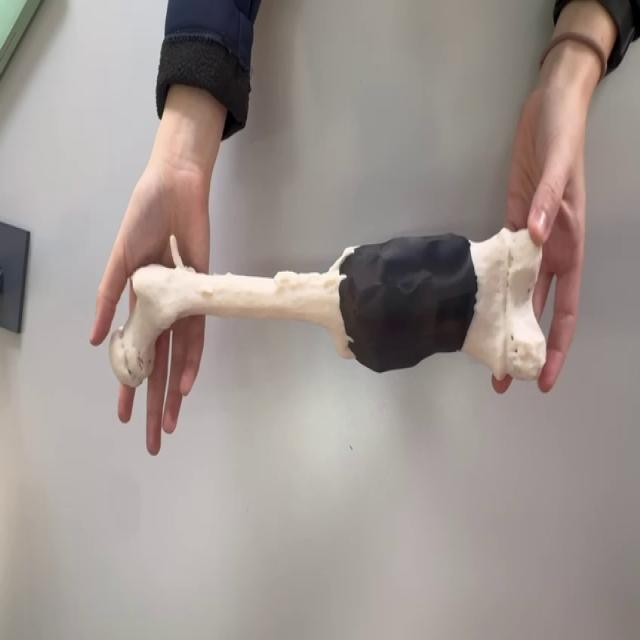bones: (109, 228, 546, 386)
